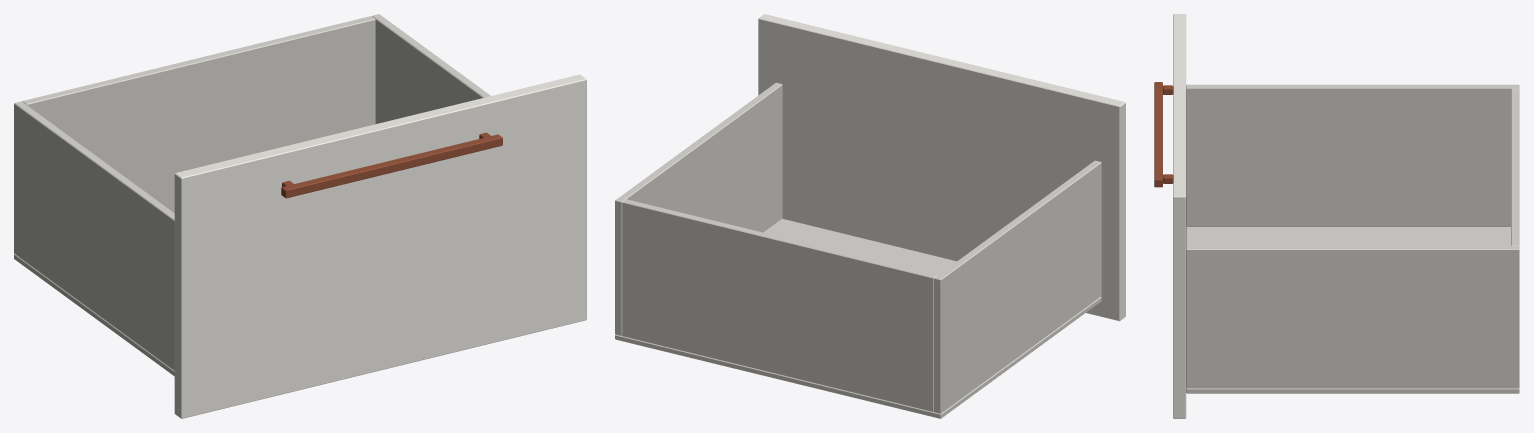
File: kitchen_island_overhang_b1_bottom_drawer.glb
The picture shows the model from 3 angles, left to right: view 1: azimuth 30°, elevation 25°; view 2: azimuth 150°, elevation 25°; view 3: azimuth 270°, elevation 25°; orthographic projection. The views are drawn at different scales.
Visible parts, largest first — view 1: kitchen_island_overhang_b1_bottom_drawer; view 2: kitchen_island_overhang_b1_bottom_drawer; view 3: kitchen_island_overhang_b1_bottom_drawer.
Boxes of the visible parts, <box> form: kitchen_island_overhang_b1_bottom_drawer: <box>14,14,586,418</box>; kitchen_island_overhang_b1_bottom_drawer: <box>615,14,1125,418</box>; kitchen_island_overhang_b1_bottom_drawer: <box>1154,14,1519,418</box>.
Bounding box in the file's own units: 0.597 × 0.339 × 0.504.
